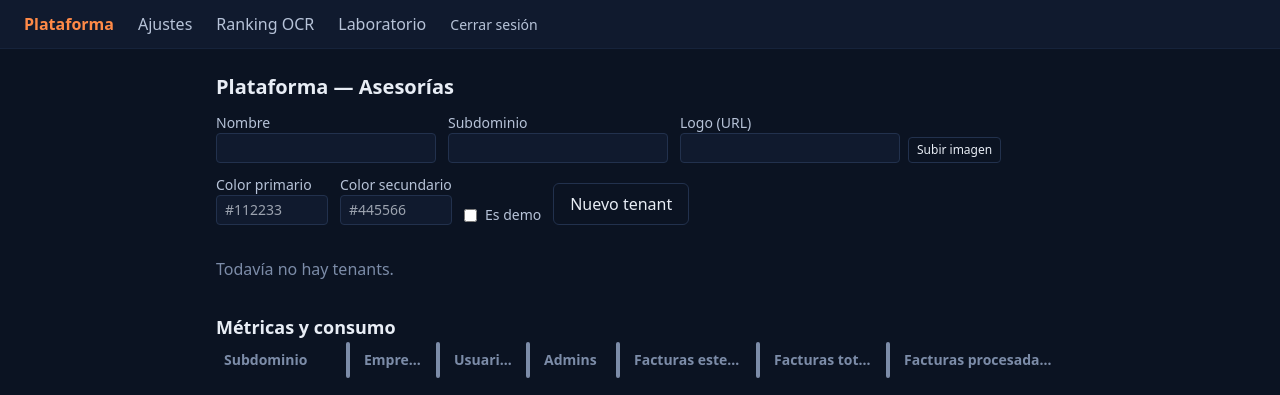
Test: AppRoutes (S4.9) › S4.8 C10: admin-tech sí ve "Ranking OCR" en el menú y puede entrar
The width and height of the screenshot is (1280, 395).
Expected: the heading "Plataforma — Asesorías" is shown, [216, 73, 454, 100]
Click the link "Ranking OCR".
click(265, 24)  # box [216, 13, 314, 35]
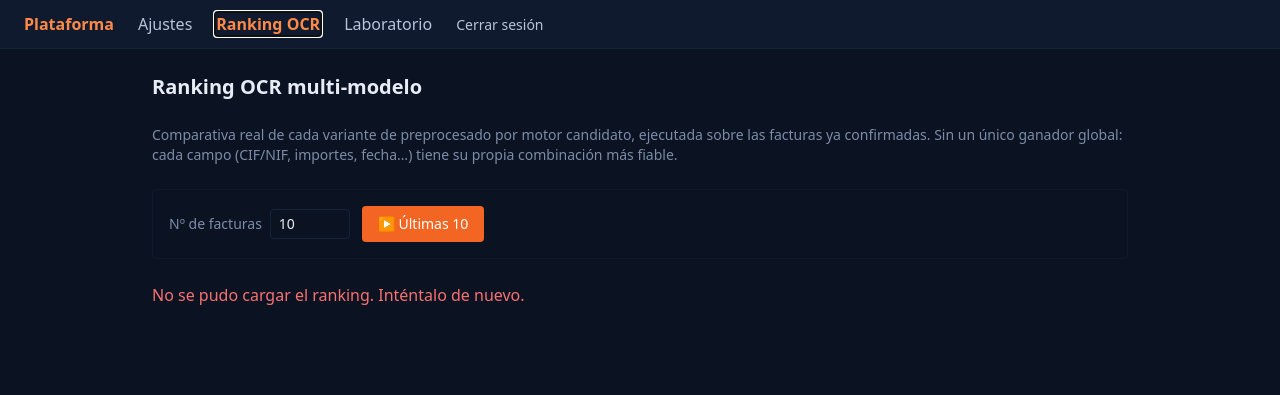
Now the heading "Ranking OCR multi-modelo" is shown, box [152, 73, 422, 100]
